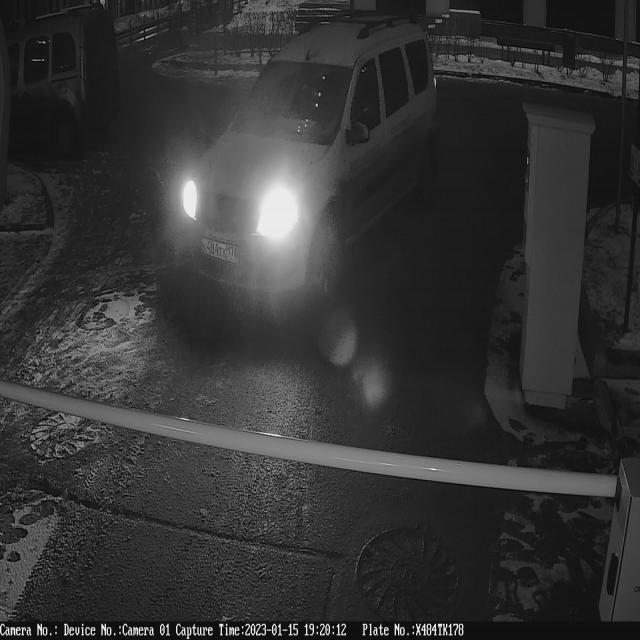car-plate-numbers: (201, 234, 243, 267)
